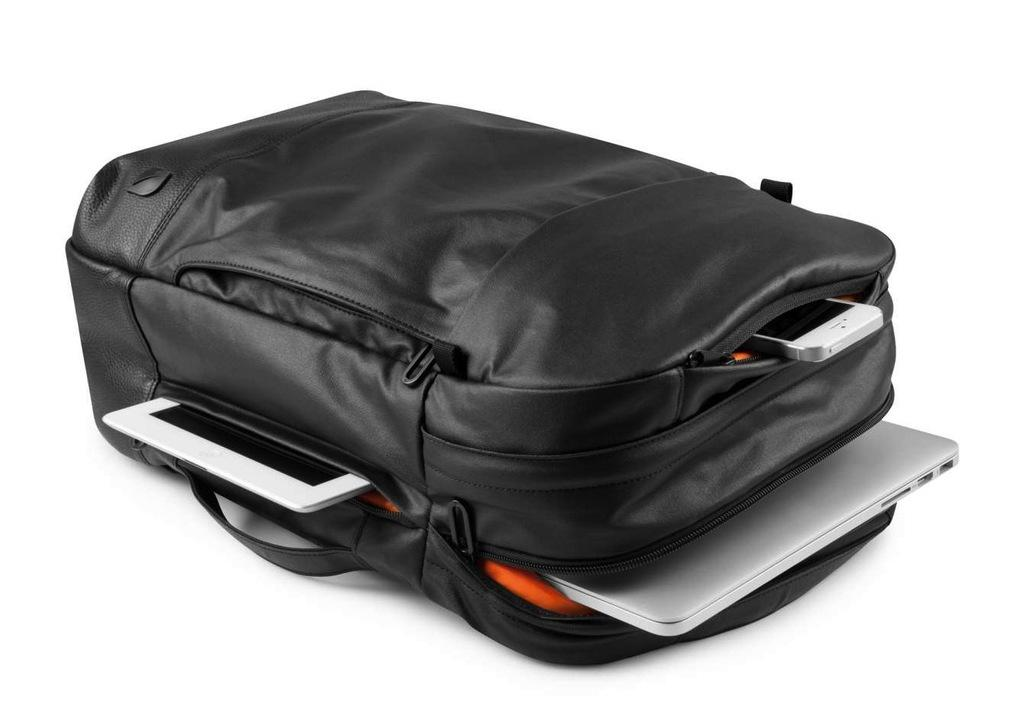Luggage-and-bags: (63, 84, 892, 661)
